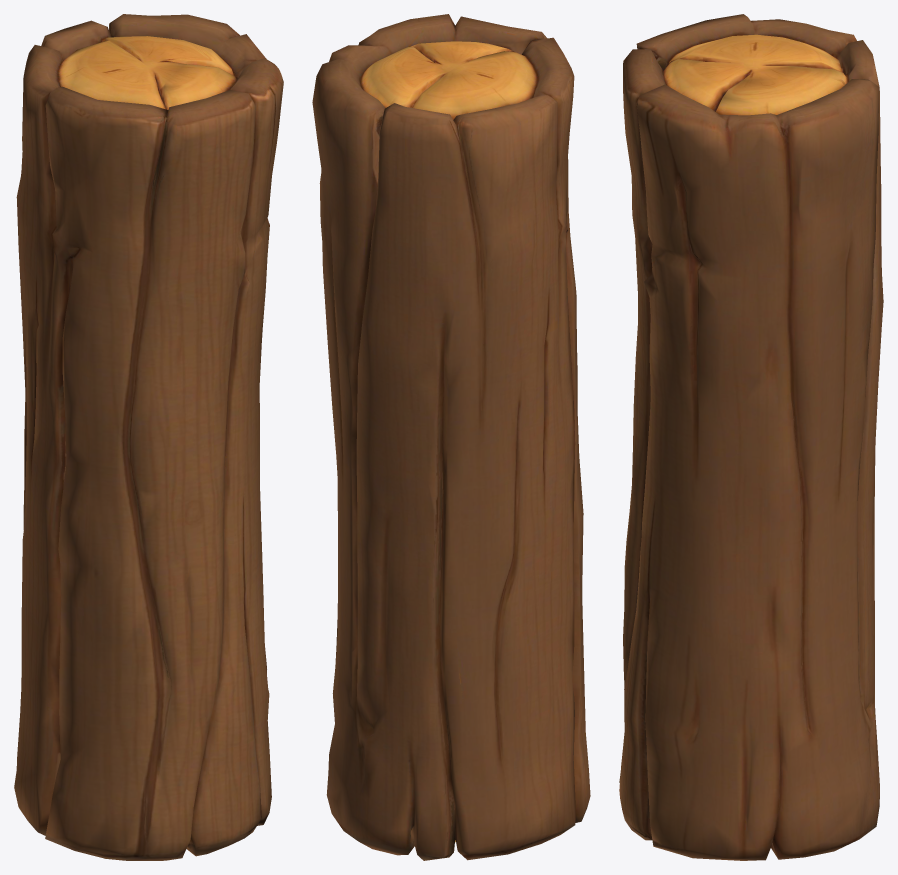
Rendered from Log_Cartoon_0405085703_texture.fbx.
3 renders of one model, left to right at view 1: azimuth 30°, elevation 25°; view 2: azimuth 150°, elevation 25°; view 3: azimuth 270°, elevation 25°, orthographic.
Parts seen in each view (by area): view 1: Mesh1; view 2: Mesh1; view 3: Mesh1.
Boxes of the visible parts, <box> form: Mesh1: <box>14,14,283,860</box>; Mesh1: <box>312,14,590,860</box>; Mesh1: <box>619,14,883,860</box>.
Bounding box in the file's own units: 64.2 × 200 × 63.28.
Materials: 1 (1 with a texture image).
